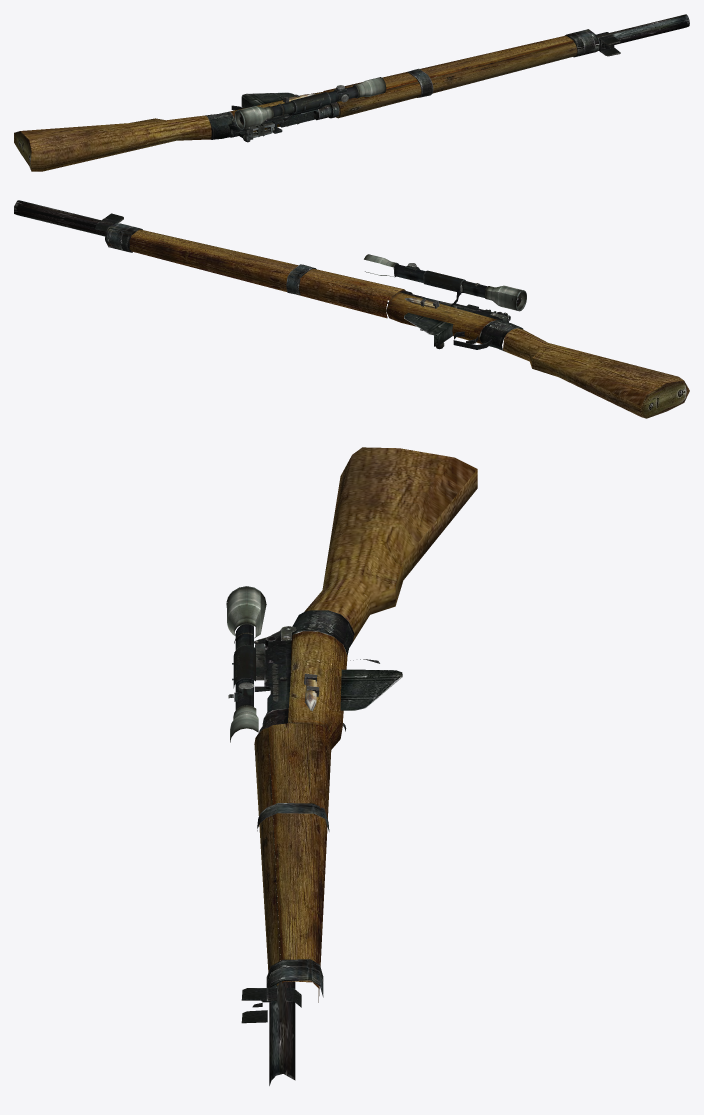
The model's file is viewmodel_enfield_scope.glb.
3 views of the same model, one above another, from view 1: azimuth 30°, elevation 25°; view 2: azimuth 150°, elevation 25°; view 3: azimuth 270°, elevation 25° (orthographic). The views are drawn at different scales.
Bounding box in the file's own units: 53.39 × 3.97 × 9.11.
3 materials, 3 textured.
